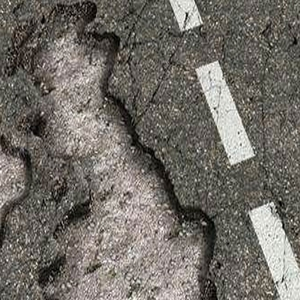pothole: (19, 1, 220, 300)
